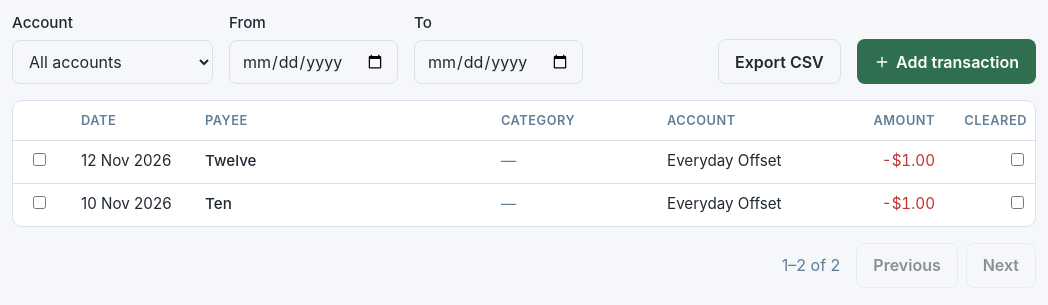
Test: TransactionsPage › date filters are inclusive and say when nothing matches
Check: the text "Twelve" is shown, box left=205, top=151, right=256, bottom=170
Type "2026-11-12" into the date field labelled "From". click: x=314, y=62
box: left=229, top=40, right=398, bottom=84
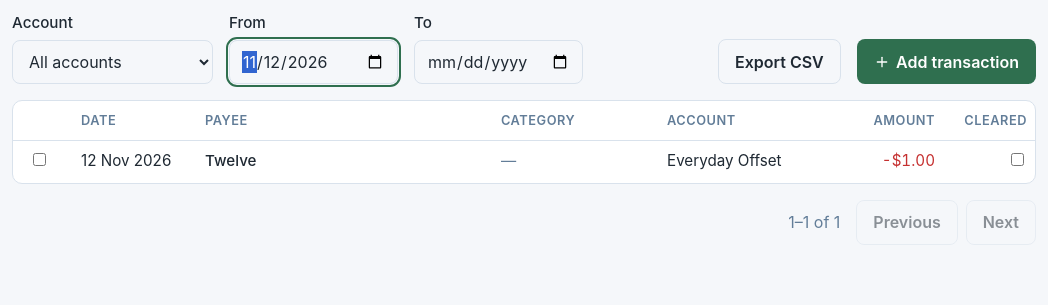
Check: the text "Twelve" is shown, box left=205, top=151, right=256, bottom=170
Type "2026-11-13" into the date field labelled "From". click: x=314, y=62
box: left=229, top=40, right=398, bottom=84
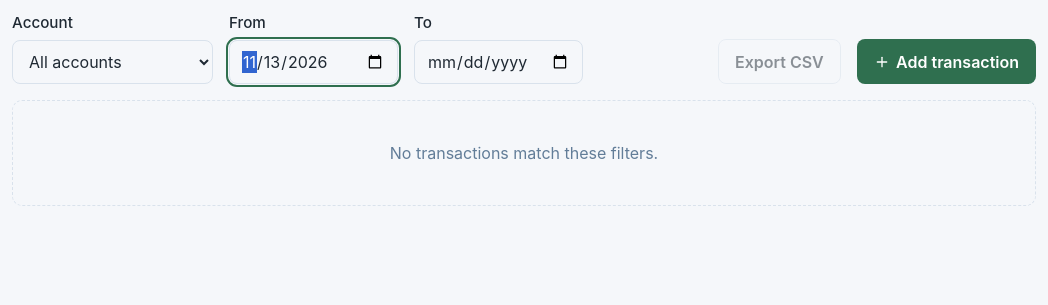
Check: the text "No transactions match these filters." is shown, box left=12, top=100, right=1036, bottom=206
